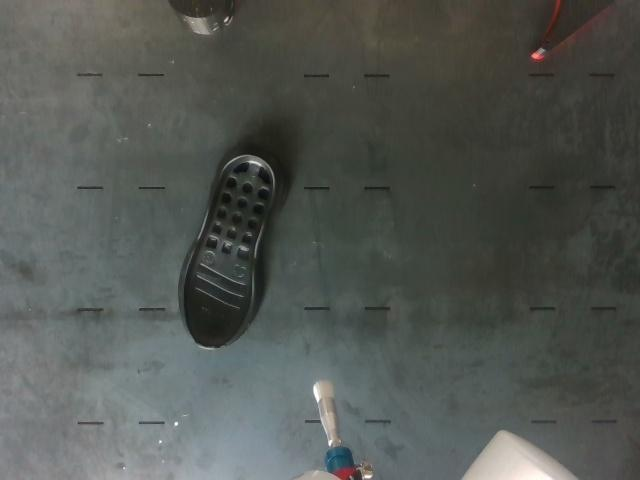shoes: (183, 156, 274, 348)
